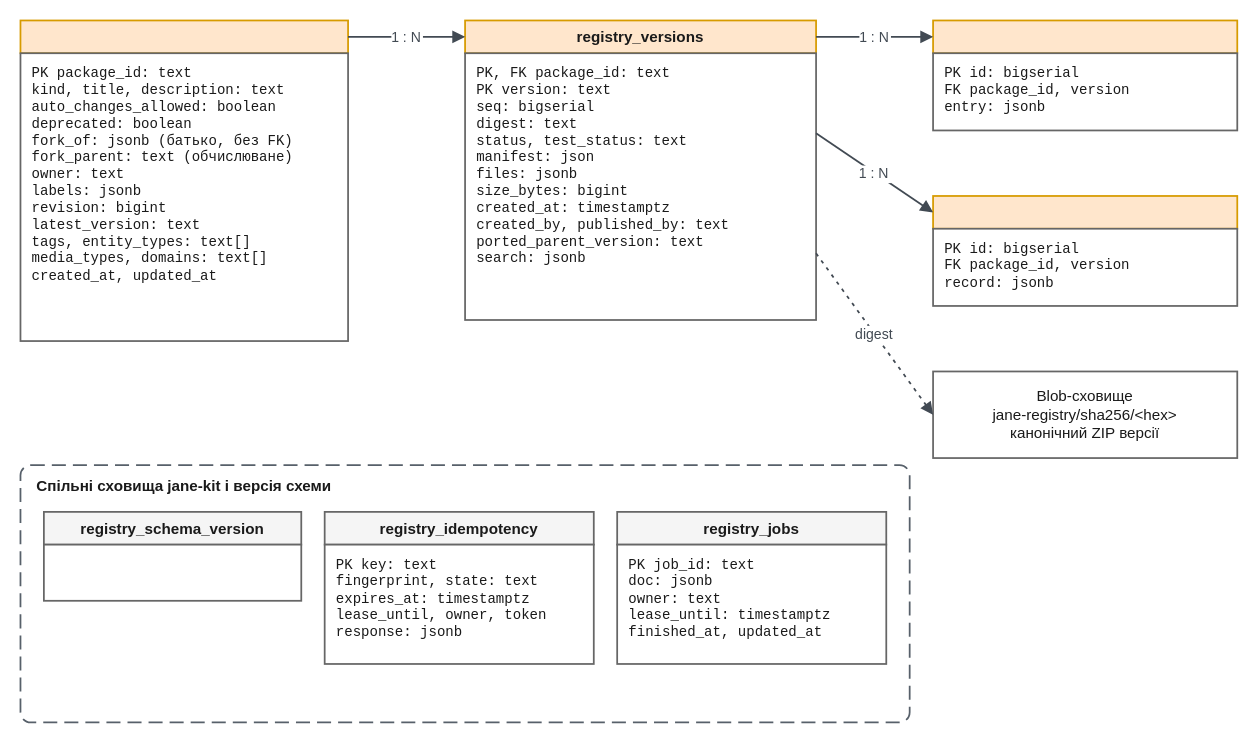
This 1259x744 diagram has some shape labels left out. Here are the shapes that lost their labels. From the top down, the centre of each, then its label:
(183,36): registry_packages
(1085,36): registry_status_history
(1085,212): registry_test_reports
(172,572): PK version: int applied_at: timestamptz
